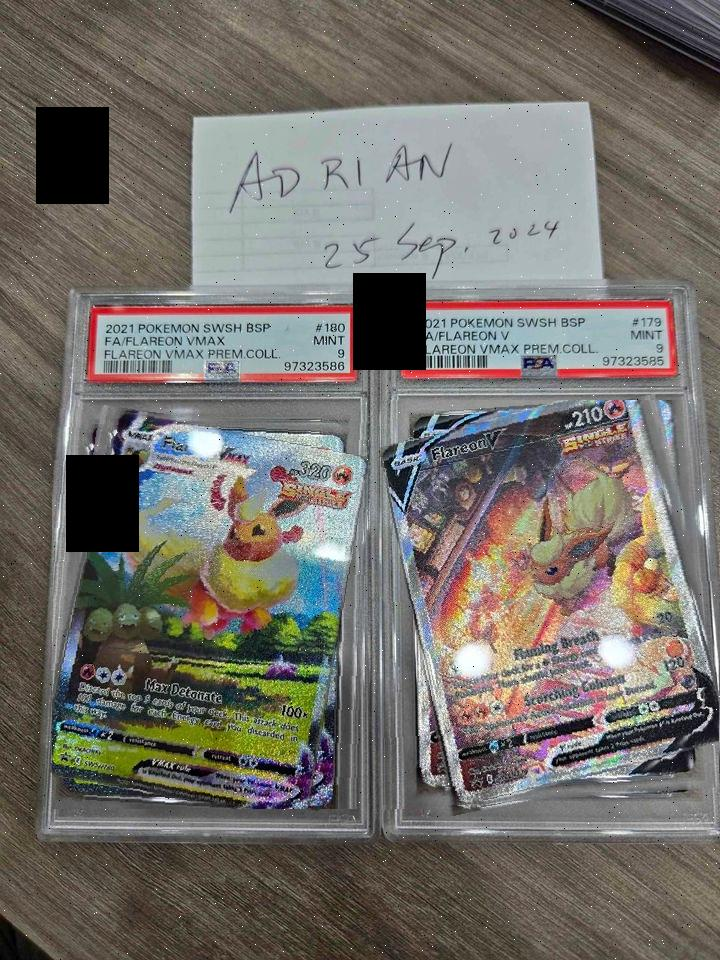card: (382, 400, 719, 804), (52, 413, 369, 809)
